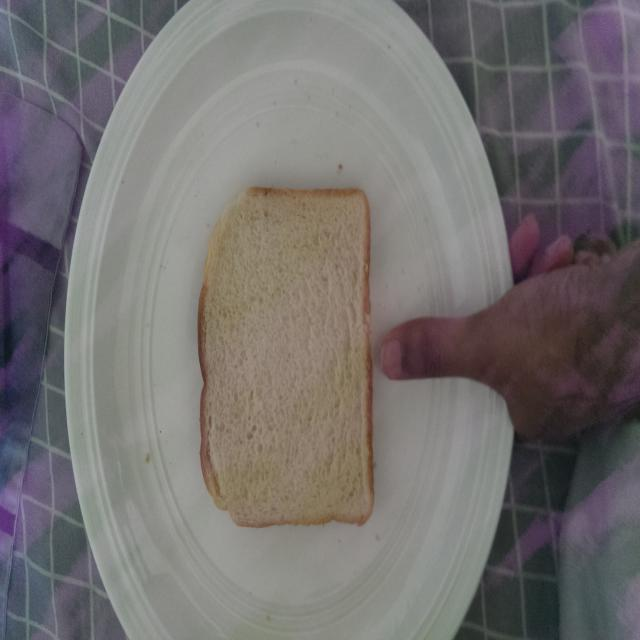Bread: (192, 174, 378, 536)
Finger: (373, 312, 458, 392)
